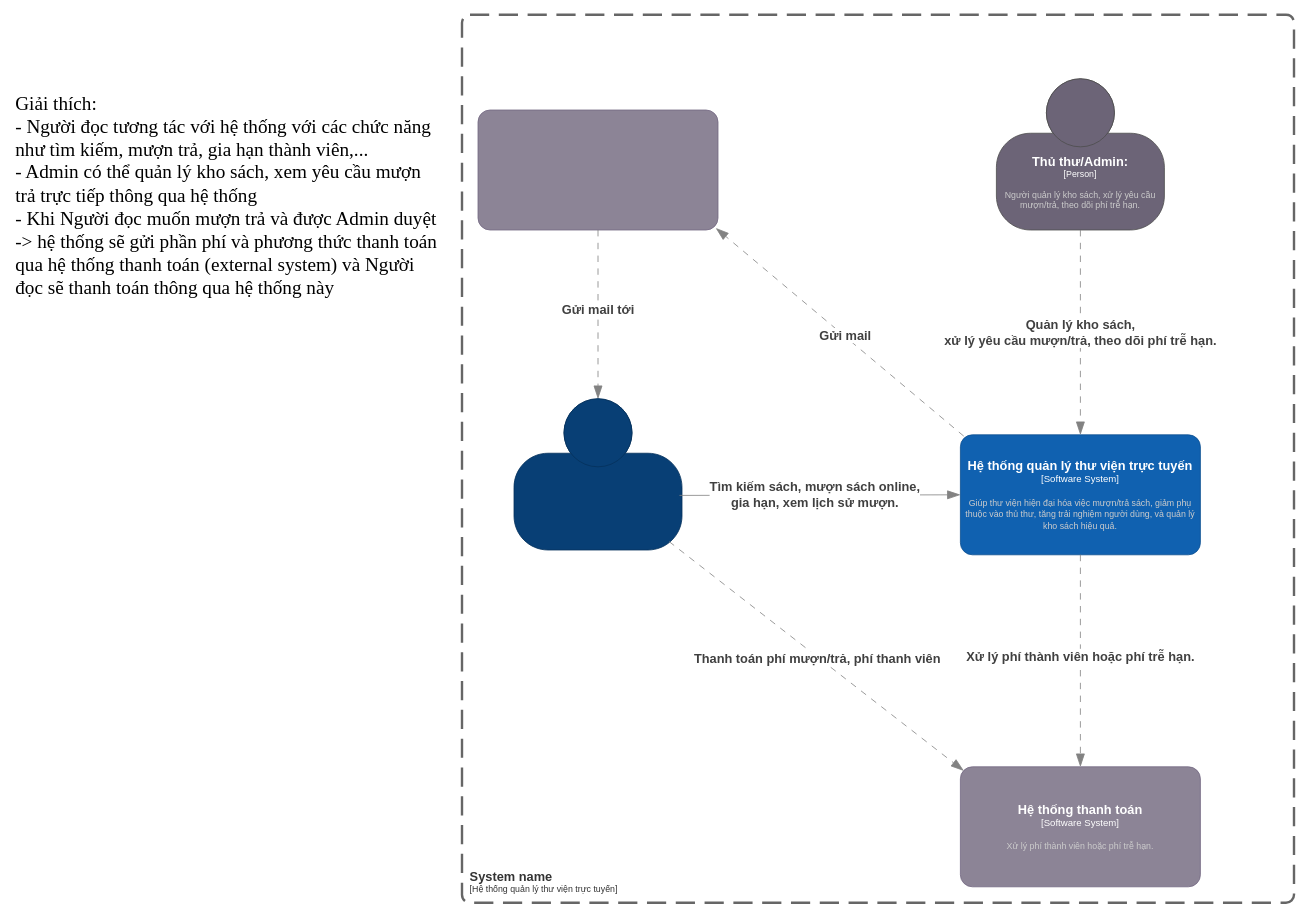
The diagram is 1309 pixels wide and 918 high, and some of its shapes have lost their labels. Each missing label, with the centre of its shape:
Hệ thống E-mail [Software System] Hệ thống dịch vụ của Google: [597,169]
Người đọc: [Person] Người đọc có tài khoản đọc sách ở thư viện: [597,474]
